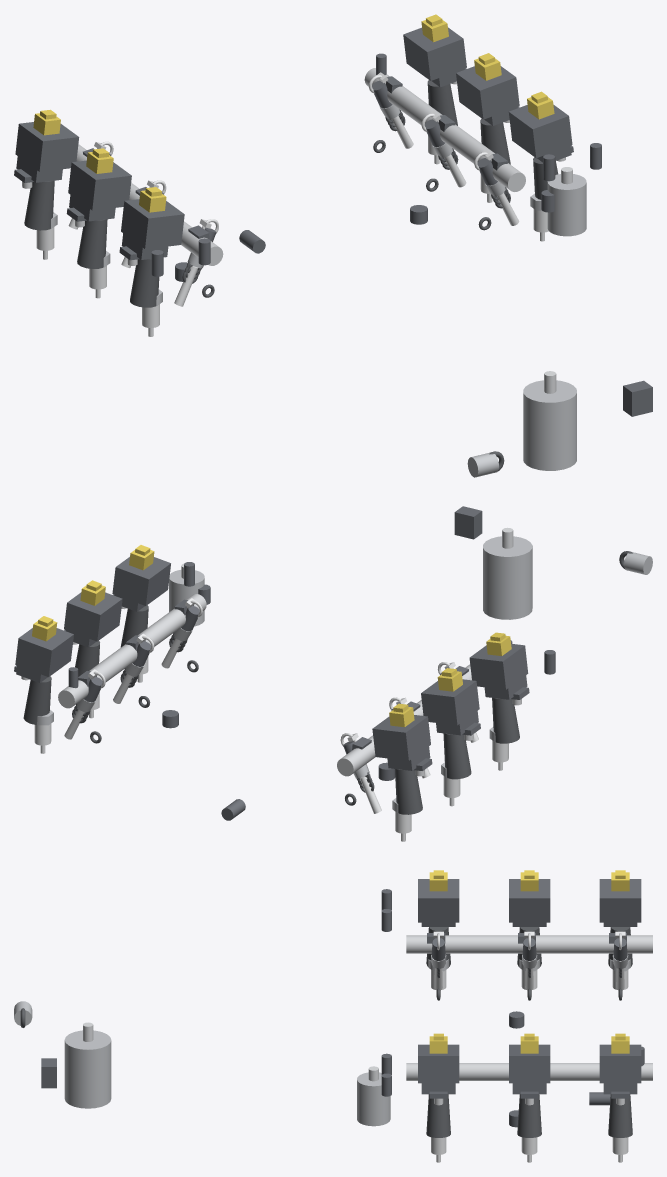
File: plugs.glb
3 renders of one model, top to bottom at view 1: azimuth 30°, elevation 25°; view 2: azimuth 150°, elevation 25°; view 3: azimuth 270°, elevation 25°, orthographic. The views are drawn at different scales.
Visible parts, largest first — view 1: lpPumpBody, hpFuelRailBank1, coilBody_b1_2, coilBody_b1_1, coilBody_b1_0, coilBody_b2_0, coilBody_b2_1, coilBody_b2_2, hpPumpBody, coilBoot_b2_2, coilBoot_b2_1, coilBoot_b2_0 (+4 smaller); view 2: lpPumpBody, hpFuelRailBank1, coilBody_b1_0, coilBody_b1_1, coilBody_b1_2, coilBody_b2_2, coilBody_b2_1, coilBody_b2_0, coilBoot_b2_1, coilBoot_b2_0, coilBoot_b2_2, coilBoot_b1_2 (+9 smaller); view 3: hpFuelRailBank2, lpPumpBody, hpFuelRailBank1, coilBody_b2_2, coilBody_b2_0, coilBody_b2_1, coilBody_b1_2, coilBody_b1_0, coilBody_b1_1, hpPumpBody, coilBoot_b1_1, coilBoot_b1_2 (+5 smaller).
Part boxes in pixels (x1,y1,x2,y2): lpPumpBody: (523, 380, 576, 470); hpFuelRailBank1: (364, 68, 525, 191); coilBody_b1_2: (403, 27, 466, 80); coilBody_b1_1: (456, 66, 519, 119); coilBody_b1_0: (508, 104, 572, 158); coilBody_b2_0: (121, 199, 184, 249); coilBody_b2_1: (68, 160, 131, 210); coilBody_b2_2: (15, 122, 79, 171); hpPumpBody: (547, 174, 586, 236); coilBoot_b2_2: (24, 180, 54, 230); coilBoot_b2_1: (77, 219, 107, 268); coilBoot_b2_0: (130, 259, 159, 307); lpPumpBody: (483, 536, 532, 619); hpFuelRailBank1: (58, 594, 206, 708); coilBody_b1_0: (112, 557, 170, 605); coilBody_b1_1: (64, 592, 122, 641); coilBody_b1_2: (15, 628, 73, 677); coilBody_b2_2: (372, 715, 430, 760); coilBody_b2_1: (421, 679, 479, 725); coilBody_b2_0: (469, 643, 528, 689); coilBoot_b2_1: (443, 733, 471, 779); coilBoot_b2_0: (492, 698, 519, 743); coilBoot_b2_2: (395, 769, 422, 814); coilBoot_b1_2: (23, 676, 51, 724); hpFuelRailBank2: (406, 935, 652, 953); lpPumpBody: (64, 1030, 111, 1108); hpFuelRailBank1: (406, 1063, 652, 1080); coilBody_b2_2: (599, 879, 641, 922); coilBody_b2_0: (418, 879, 459, 922); coilBody_b2_1: (509, 879, 550, 922); coilBody_b1_2: (599, 1044, 641, 1083); coilBody_b1_0: (418, 1044, 459, 1083); coilBody_b1_1: (509, 1044, 550, 1083); hpPumpBody: (357, 1072, 390, 1126); coilBoot_b1_1: (517, 1094, 541, 1137); coilBoot_b1_2: (608, 1094, 632, 1137).
Size of the model in its own units: 3.44 by 1.28 by 4.92.
